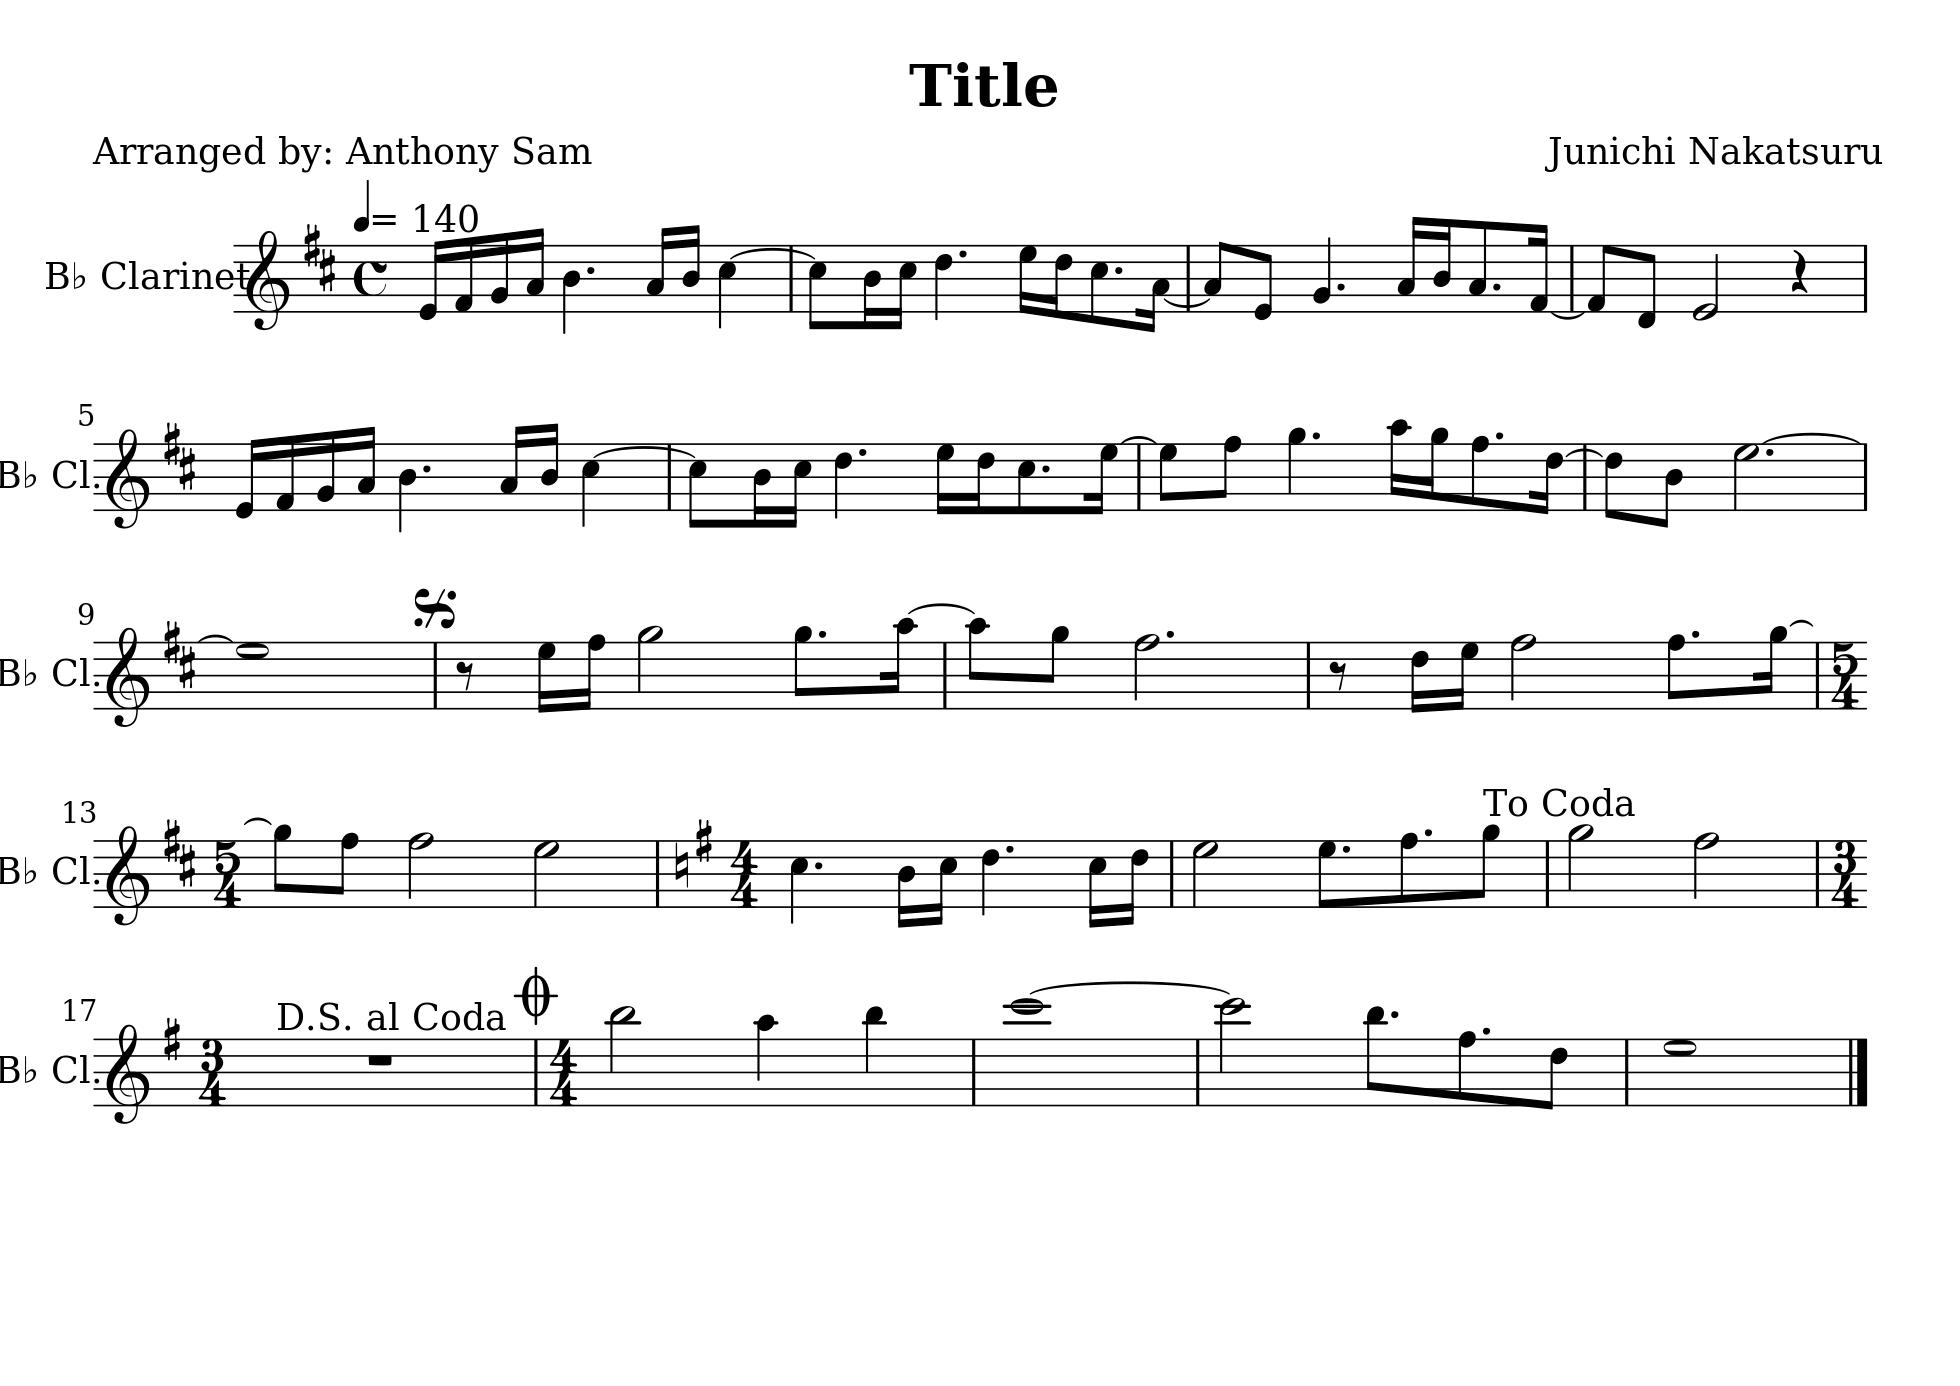0: (457, 202, 478, 232)
1: (414, 202, 430, 232), (61, 996, 76, 1024), (61, 796, 76, 823)
16_0: (415, 237, 447, 322), (231, 436, 262, 520)
16_1: (1527, 220, 1551, 313), (271, 432, 297, 511), (451, 232, 475, 315)
16_10: (880, 616, 918, 711), (1386, 417, 1413, 513)
16_2: (487, 229, 511, 313), (313, 427, 337, 511)
16_3: (1395, 214, 1425, 313), (1138, 243, 1170, 333), (645, 223, 673, 313), (498, 423, 526, 511), (523, 226, 546, 313), (355, 423, 376, 511)
16_4: (1431, 216, 1453, 315), (895, 837, 918, 928), (540, 421, 561, 511), (861, 243, 882, 331), (751, 441, 772, 529), (681, 223, 700, 313)
16_5: (784, 441, 813, 529), (889, 243, 918, 330), (930, 838, 958, 925), (1087, 838, 1108, 928)
16_6: (1122, 837, 1152, 925), (1531, 441, 1564, 516), (1047, 243, 1074, 319), (969, 441, 996, 516), (1410, 639, 1431, 715)
16_7: (1086, 441, 1119, 516), (1452, 640, 1480, 712), (934, 441, 955, 517), (535, 639, 556, 715), (1017, 241, 1038, 316)
16_8: (577, 631, 606, 712)
16_9: (1755, 622, 1788, 711), (1422, 424, 1449, 511)
1_12: (1005, 996, 1047, 1108)
1_7: (234, 639, 270, 711), (1663, 1036, 1698, 1108)
2_0: (1692, 241, 1720, 322)
2_11: (606, 1003, 637, 1107)
2_12: (1218, 994, 1248, 1108)
2_7: (1731, 441, 1759, 511), (531, 838, 559, 909), (1191, 838, 1218, 909)
2_8: (1692, 829, 1722, 907), (1134, 631, 1161, 711), (1509, 631, 1536, 711), (406, 829, 433, 907)
2_9: (634, 622, 664, 709), (1566, 822, 1594, 910)
3: (1831, 838, 1861, 873), (198, 1036, 226, 1072), (79, 796, 97, 825)
4: (1830, 873, 1864, 907), (195, 1071, 229, 1105), (1830, 673, 1863, 708), (547, 1036, 579, 1072), (727, 873, 760, 906), (211, 874, 244, 907), (729, 838, 759, 874), (547, 1072, 579, 1105), (433, 201, 457, 234)
4_10: (753, 1011, 778, 1107)
4_11: (862, 1003, 886, 1108)
4_2: (1311, 234, 1333, 315)
4_4: (396, 442, 418, 534), (559, 244, 582, 334)
4_5: (579, 441, 601, 528), (789, 837, 808, 925), (717, 241, 736, 328)
4_6: (933, 243, 954, 322), (832, 441, 853, 520), (981, 838, 1002, 918)
4_9: (1285, 424, 1308, 511)
5: (1830, 639, 1860, 676), (211, 838, 241, 874), (76, 400, 94, 427)
7: (79, 994, 97, 1024)
8_-1: (1636, 243, 1659, 328)
8_0: (1252, 243, 1275, 322)
8_1: (1585, 241, 1614, 313)
8_10: (964, 616, 990, 712)
8_11: (1363, 1003, 1389, 1108)
8_3: (1467, 217, 1489, 315), (1203, 238, 1230, 313)
8_4: (1654, 441, 1684, 529)
8_5: (807, 243, 828, 333), (687, 441, 708, 531), (1089, 241, 1110, 327), (1017, 441, 1038, 516)
8_6: (1540, 1036, 1569, 1111), (1602, 439, 1624, 522)
8_7: (1158, 441, 1179, 511), (1317, 838, 1338, 909)
8_8: (1212, 433, 1242, 511), (328, 829, 358, 907), (1665, 631, 1687, 711), (1470, 433, 1491, 513), (1398, 831, 1419, 909), (1456, 1030, 1477, 1108)
8_9: (1041, 624, 1071, 711), (1471, 823, 1501, 907), (792, 624, 814, 709), (271, 823, 292, 907)
9: (76, 598, 94, 625)
Cl: (49, 454, 88, 490), (100, 255, 136, 291), (51, 654, 87, 688), (52, 1050, 87, 1084), (51, 852, 87, 885)
Coda: (516, 964, 558, 1021)
DSalcoda: (273, 996, 507, 1033)
D_S: (301, 223, 337, 300), (160, 418, 198, 490), (160, 618, 196, 688), (160, 817, 196, 886)
Final_barline: (1843, 1036, 1870, 1105)
Gclef: (103, 427, 151, 531), (105, 1021, 151, 1125), (244, 228, 289, 331), (105, 822, 150, 925), (105, 624, 148, 727)
Natural: (672, 838, 690, 889)
Rests1: (363, 1048, 397, 1066)
Rests4: (1788, 247, 1810, 295)
Rests8: (454, 658, 477, 693), (1327, 658, 1350, 693)
Segno: (408, 583, 460, 631)
Sharp: (160, 1015, 183, 1063), (693, 816, 714, 865)
Single_barline: (1131, 442, 1152, 510), (964, 1036, 984, 1105), (1617, 1038, 1636, 1105), (648, 840, 667, 906), (1857, 244, 1875, 312), (1539, 838, 1557, 906), (1164, 840, 1182, 906), (1809, 840, 1827, 906), (1189, 1038, 1207, 1104), (1179, 244, 1197, 309), (1299, 642, 1317, 706), (936, 643, 954, 708), (1812, 643, 1830, 708), (661, 444, 678, 511), (1563, 244, 1579, 310), (426, 642, 442, 706), (1576, 448, 1593, 511), (784, 244, 799, 312), (529, 1036, 541, 1105)
Slur: (1029, 979, 1233, 994), (1761, 430, 1863, 442), (592, 445, 694, 457), (906, 601, 976, 616), (727, 247, 814, 259), (1161, 297, 1215, 307), (1120, 433, 1158, 445), (1564, 447, 1603, 457), (198, 631, 234, 642), (241, 816, 273, 826), (1551, 310, 1587, 319), (1789, 619, 1815, 628)
Speed4: (351, 178, 397, 232)
TimeSig: (352, 243, 388, 313), (354, 244, 390, 313), (547, 1038, 582, 1105), (1830, 640, 1863, 709), (727, 838, 760, 907), (1830, 838, 1863, 907), (211, 838, 243, 907), (196, 1036, 228, 1105)
ToCoda: (1480, 783, 1636, 819)
dot: (583, 262, 597, 277), (420, 460, 433, 475), (1003, 841, 1017, 856), (1339, 841, 1353, 856), (1491, 279, 1504, 292), (1492, 429, 1506, 442), (814, 627, 828, 640), (811, 858, 825, 871), (1387, 1006, 1401, 1020), (1308, 429, 1323, 441), (955, 247, 969, 259), (1335, 280, 1348, 292), (855, 445, 868, 457), (1764, 445, 1776, 459), (1039, 462, 1053, 474), (1689, 627, 1701, 640), (1422, 825, 1434, 838), (1479, 1024, 1492, 1036), (1113, 262, 1125, 274), (1164, 628, 1176, 639)
